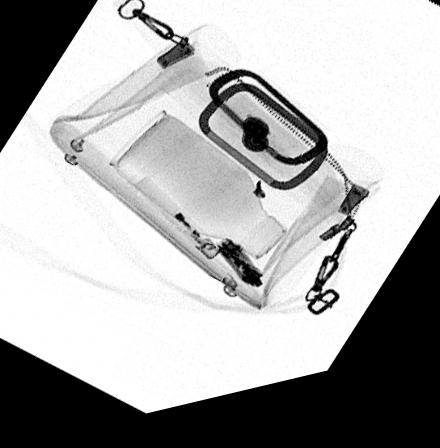Lighter: (133, 181, 221, 270)
